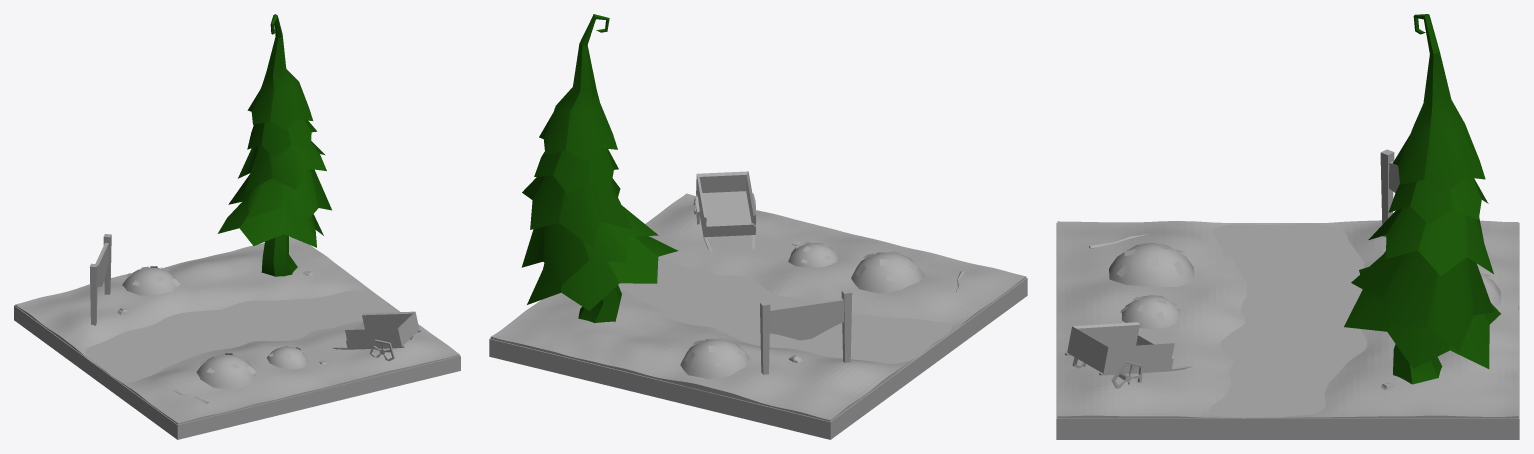
Rendered from entree_village_v1.fbx.
The picture shows the model from 3 angles, left to right: view 1: azimuth 30°, elevation 25°; view 2: azimuth 150°, elevation 25°; view 3: azimuth 270°, elevation 25°; orthographic projection. The views are drawn at different scales.
Visible parts, largest first — view 1: sol22, sapin7, sol_entree_village, sol5, charette, Buisson12, Buisson14, panneau_bienvenue, Buisson13; view 2: sol22, sapin7, sol_entree_village, sol5, charette, panneau_bienvenue, Buisson12, Buisson14, Buisson13; view 3: sol22, sapin7, sol_entree_village, sol5, charette, Buisson12, Buisson13, panneau_bienvenue.
Part boxes in pixels (x1=…): sol22: x1=15, y1=237, x2=459, y2=424; sapin7: x1=217, y1=14, x2=331, y2=276; sol_entree_village: x1=85, y1=290, x2=396, y2=382; sol5: x1=14, y1=296, x2=460, y2=439; charette: x1=332, y1=311, x2=421, y2=361; Buisson12: x1=196, y1=353, x2=255, y2=389; Buisson14: x1=122, y1=266, x2=180, y2=295; panneau_bienvenue: x1=90, y1=234, x2=111, y2=325; Buisson13: x1=267, y1=345, x2=308, y2=369; sol22: x1=490, y1=193, x2=1026, y2=421; sapin7: x1=521, y1=14, x2=678, y2=323; sol_entree_village: x1=618, y1=259, x2=951, y2=363; sol5: x1=489, y1=278, x2=1027, y2=439; charette: x1=693, y1=171, x2=756, y2=252; panneau_bienvenue: x1=760, y1=289, x2=852, y2=374; Buisson12: x1=851, y1=251, x2=924, y2=293; Buisson14: x1=680, y1=338, x2=749, y2=379; Buisson13: x1=788, y1=242, x2=839, y2=267; sol22: x1=1057, y1=220, x2=1518, y2=418; sapin7: x1=1344, y1=14, x2=1500, y2=384; sol_entree_village: x1=1209, y1=224, x2=1367, y2=417; sol5: x1=1056, y1=223, x2=1519, y2=439; charette: x1=1065, y1=322, x2=1191, y2=388; Buisson12: x1=1109, y1=242, x2=1194, y2=286; Buisson13: x1=1120, y1=295, x2=1180, y2=329; panneau_bienvenue: x1=1380, y1=149, x2=1399, y2=236.
Size of the model in its own units: 803 by 740 by 800.
